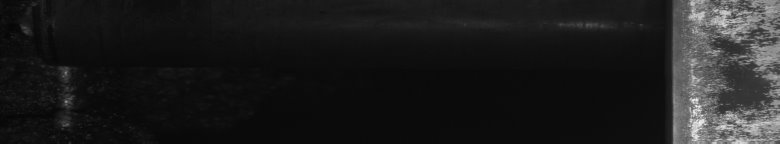kb: (683, 4, 776, 136)
